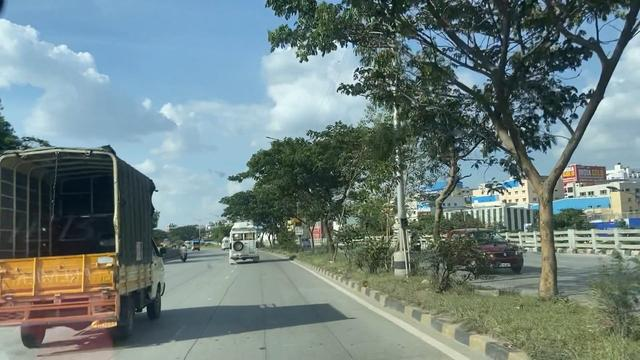HMV: (5, 146, 170, 346), (228, 219, 264, 267)
